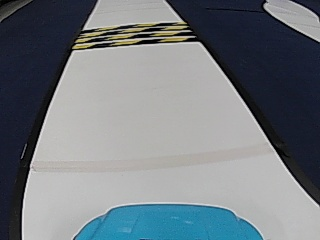bump: (87, 21, 185, 49)
